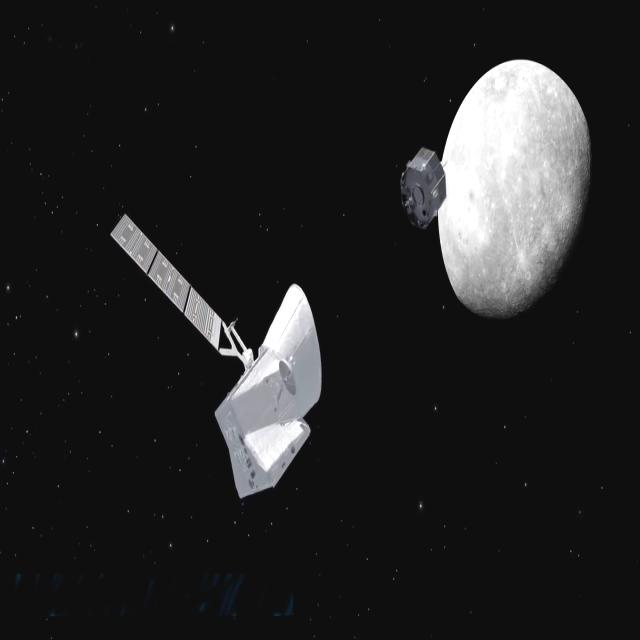large_debris: (396, 141, 450, 232)
medium_debris: (92, 186, 330, 512)
